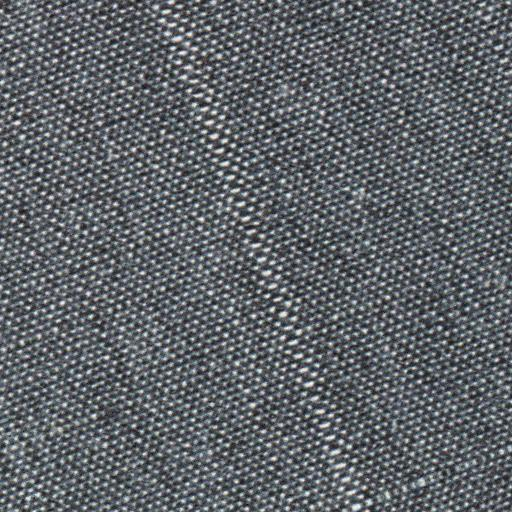slub: (149, 0, 378, 510)
